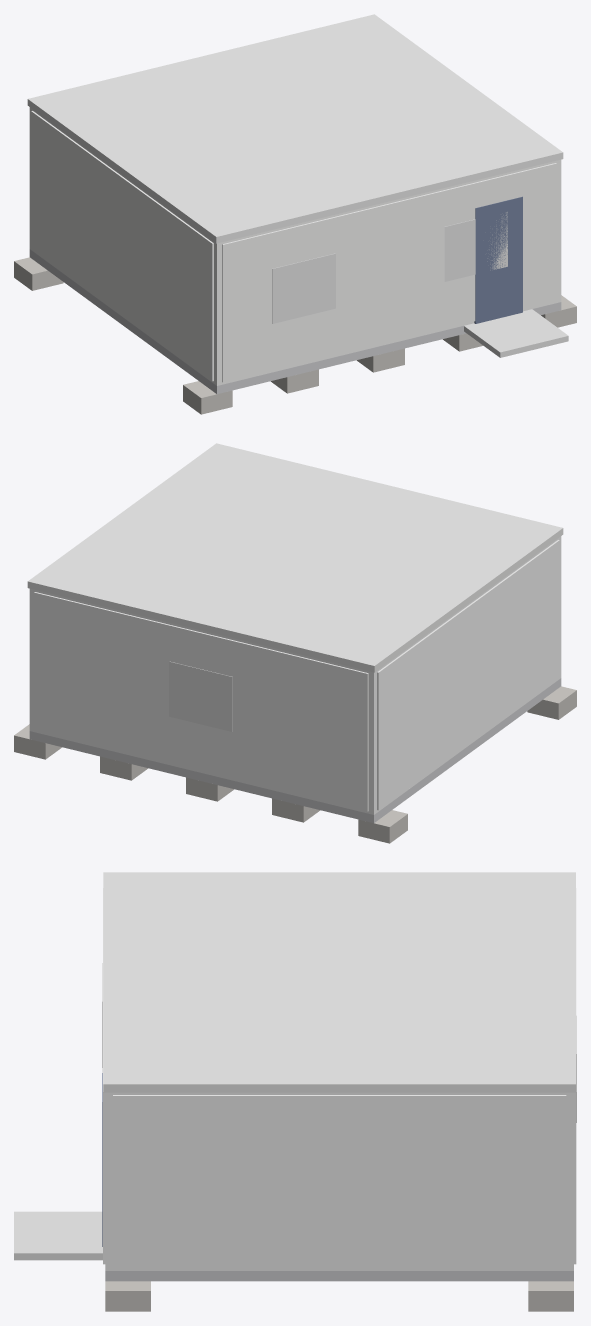
File: Studio-20-Retirement-LOD1.glb
3 views of the same model, one above another, from view 1: azimuth 30°, elevation 25°; view 2: azimuth 150°, elevation 25°; view 3: azimuth 270°, elevation 25° (orthographic). The views are drawn at different scales.
Parts seen in each view (by area): view 1: RoofMain, ExteriorPanelsStandard, WindowsStandard, EntryDoor, ExteriorShell, FoundationBlocks, BaseFrame, AccessibilityRetirement; view 2: ExteriorPanelsStandard, RoofMain, FoundationBlocks, ExteriorShell, BaseFrame, WindowsStandard; view 3: RoofMain, ExteriorPanelsStandard, ExteriorShell, BaseFrame, AccessibilityRetirement, FoundationBlocks.
Boxes of the visible parts, <box> form: RoofMain: <box>27,14,563,243</box>; ExteriorPanelsStandard: <box>31,111,556,382</box>; WindowsStandard: <box>272,212,507,323</box>; EntryDoor: <box>474,196,522,323</box>; ExteriorShell: <box>29,107,561,385</box>; FoundationBlocks: <box>14,257,576,414</box>; BaseFrame: <box>29,249,561,394</box>; AccessibilityRetirement: <box>464,309,568,357</box>; ExteriorPanelsStandard: <box>34,540,559,811</box>; RoofMain: <box>27,443,563,672</box>; FoundationBlocks: <box>14,686,576,843</box>; ExteriorShell: <box>29,536,561,814</box>; BaseFrame: <box>29,678,561,823</box>; WindowsStandard: <box>169,661,232,731</box>; RoofMain: <box>103,872,575,1092</box>; ExteriorPanelsStandard: <box>103,888,576,1268</box>; ExteriorShell: <box>105,1092,573,1270</box>; BaseFrame: <box>105,1271,573,1281</box>; AccessibilityRetirement: <box>14,1211,102,1260</box>; FoundationBlocks: <box>105,1281,573,1311</box>.
Size of the model in its own units: 7.14 by 3.17 by 7.4.
